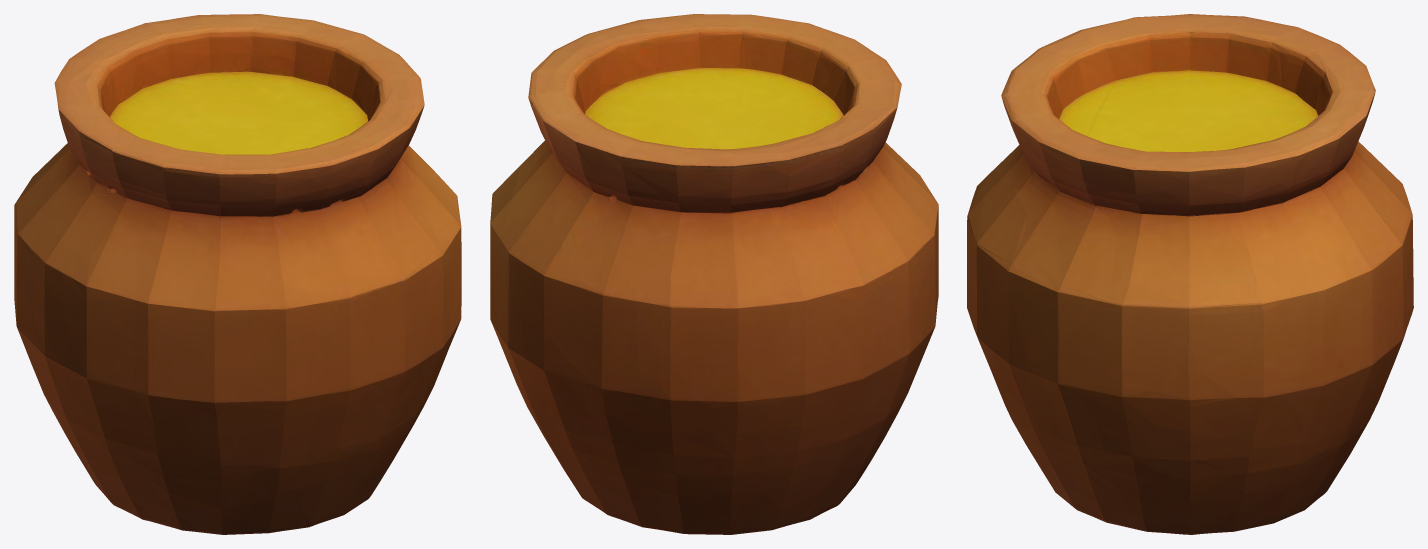
The model's file is d_ruche_pot.glb.
3 renders of one model, left to right at view 1: azimuth 30°, elevation 25°; view 2: azimuth 150°, elevation 25°; view 3: azimuth 270°, elevation 25°, orthographic.
Parts seen in each view (by area): view 1: geometry_0; view 2: geometry_0; view 3: geometry_0.
Boxes of the visible parts, bbox=[...] form: geometry_0: bbox=[14, 14, 461, 534]; geometry_0: bbox=[490, 14, 938, 534]; geometry_0: bbox=[967, 14, 1413, 534].
Bounding box in the file's own units: 0.9997 × 0.9542 × 1.
Materials: 1 (1 with a texture image).
